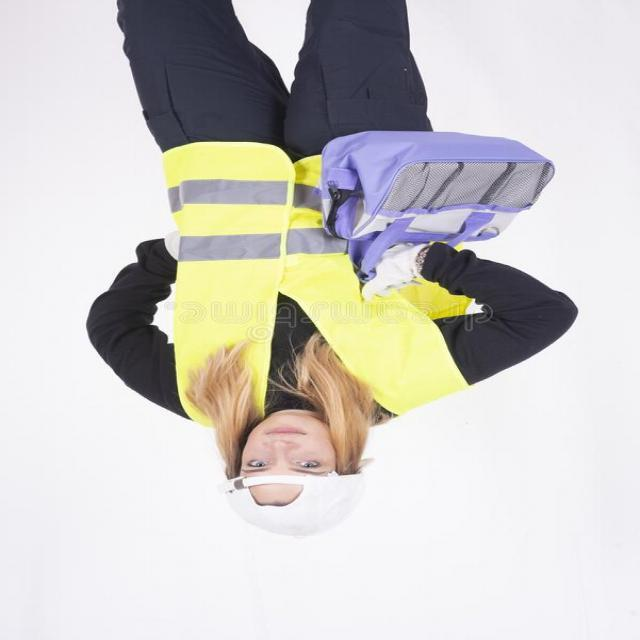safetyhelmet: (215, 425, 377, 543)
